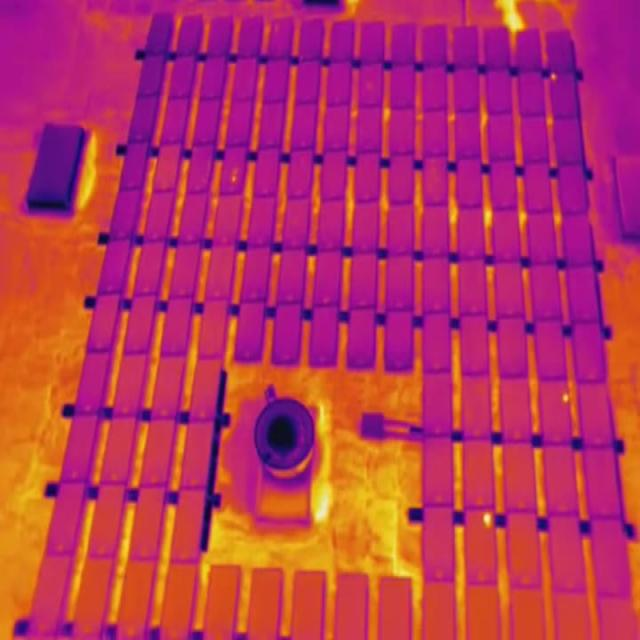Orange-Spots: (483, 512, 492, 528), (231, 168, 238, 183), (563, 393, 569, 403), (550, 73, 556, 80)
